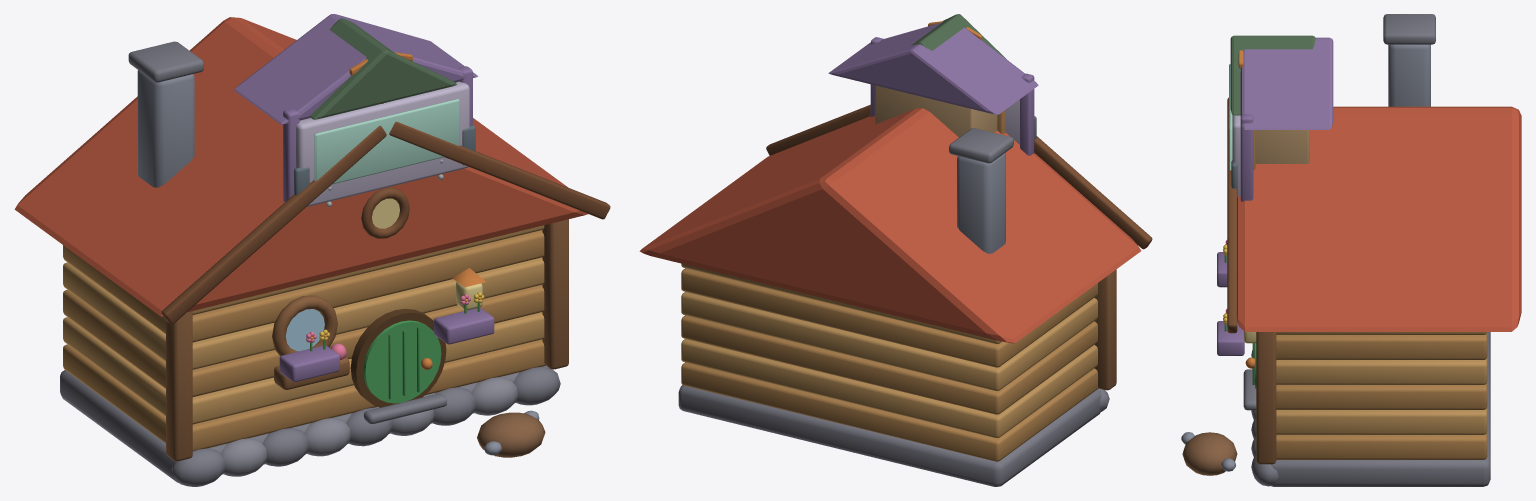
The model's file is res_pip3.glb.
The picture shows the model from 3 angles, left to right: view 1: azimuth 30°, elevation 25°; view 2: azimuth 150°, elevation 25°; view 3: azimuth 270°, elevation 25°; orthographic projection. The views are drawn at different scales.
Visible parts, largest first — view 1: base, roof, crystal, walls, flower, frame, iron; view 2: base, roof, frame; view 3: base, roof, flower, frame, walls.
Part boxes in pixels (<box>): base: <box>14,17,610,486</box>; roof: <box>234,14,477,124</box>; crystal: <box>314,99,459,184</box>; walls: <box>296,81,469,207</box>; flower: <box>279,292,494,381</box>; frame: <box>283,66,472,201</box>; iron: <box>294,125,475,195</box>; base: <box>639,14,1152,486</box>; roof: <box>828,22,1038,114</box>; frame: <box>870,37,1034,155</box>; base: <box>1181,14,1521,486</box>; roof: <box>1240,37,1333,129</box>; flower: <box>1217,240,1244,355</box>; frame: <box>1240,114,1253,201</box>; walls: <box>1232,115,1240,197</box>.
Bounding box in the file's own units: 3.75 × 3.39 × 2.72.
